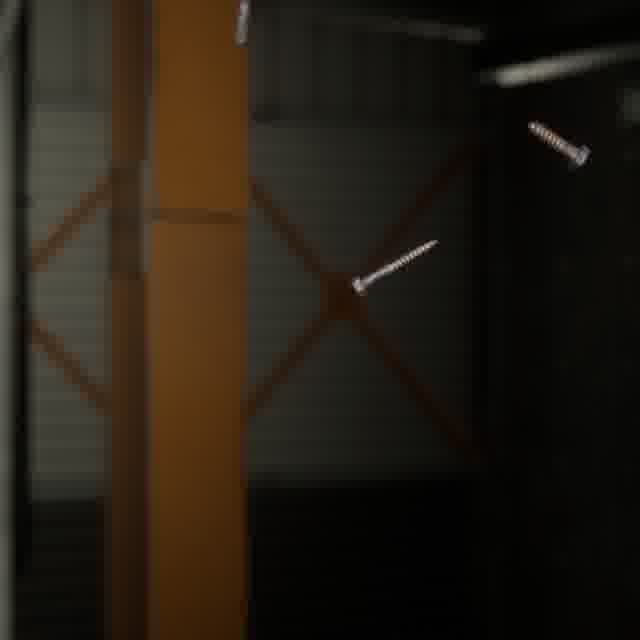bolt: (346, 235, 441, 301), (524, 116, 594, 175), (229, 0, 256, 48)
